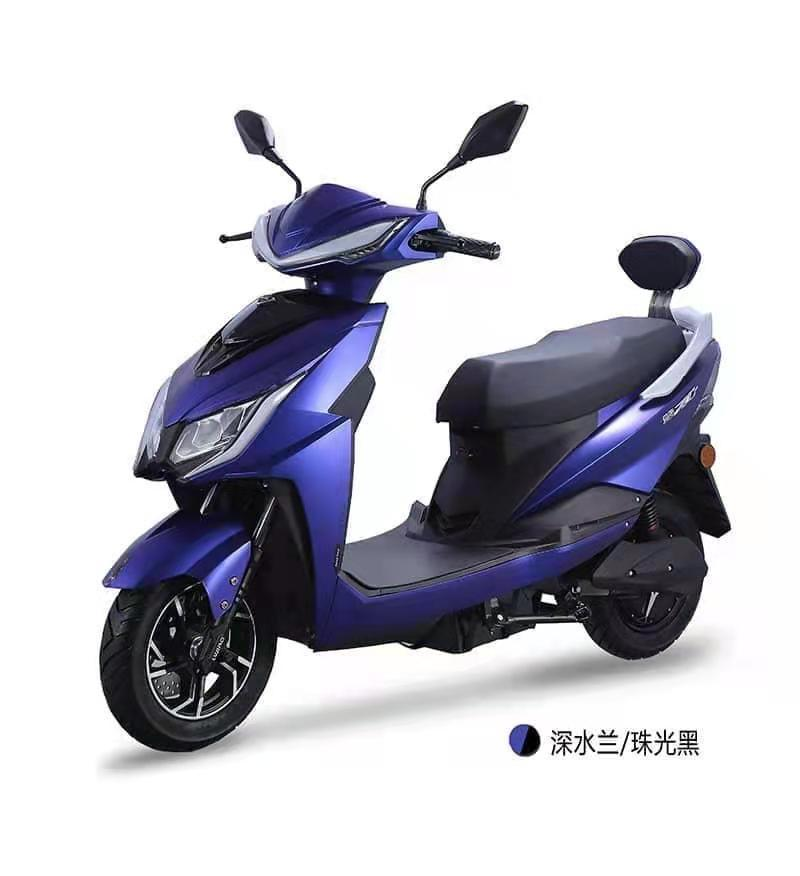motorbike: (96, 97, 735, 755)
